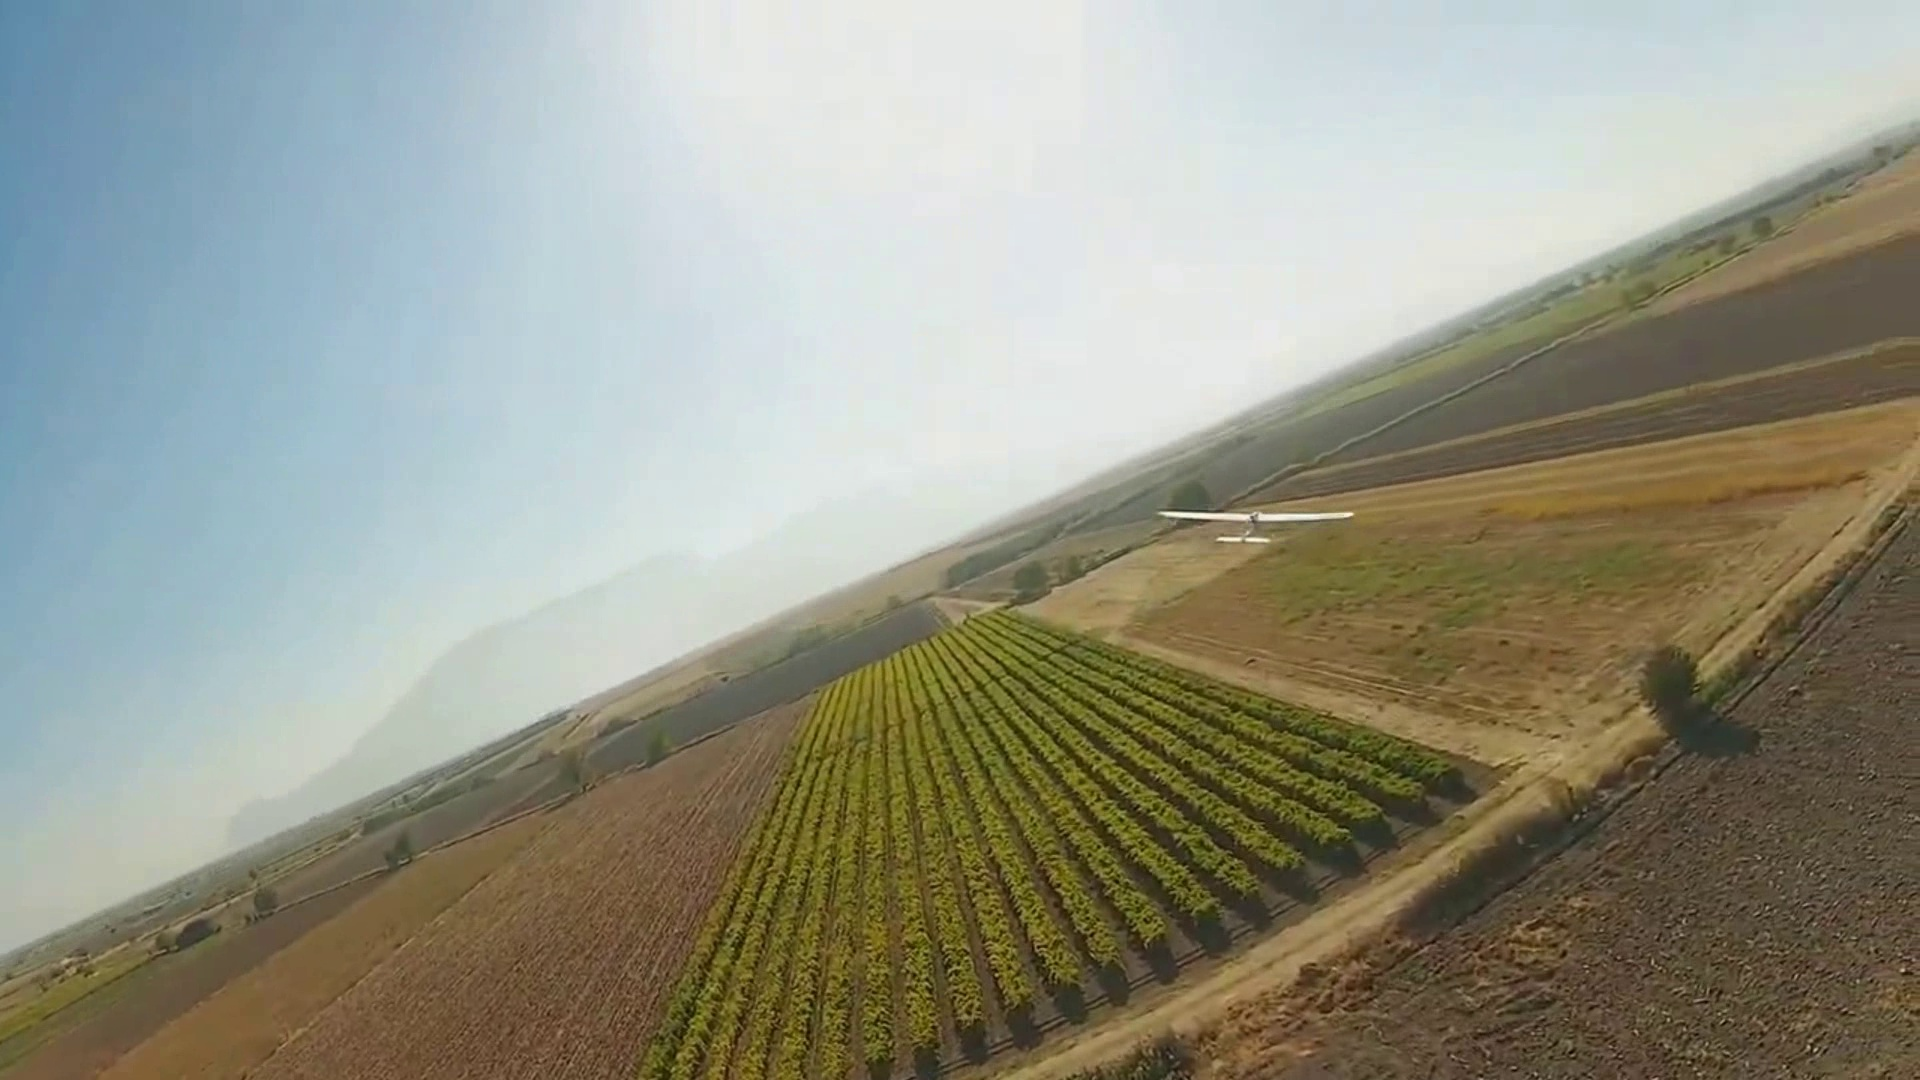airplane: (16, 86, 1920, 1050)
